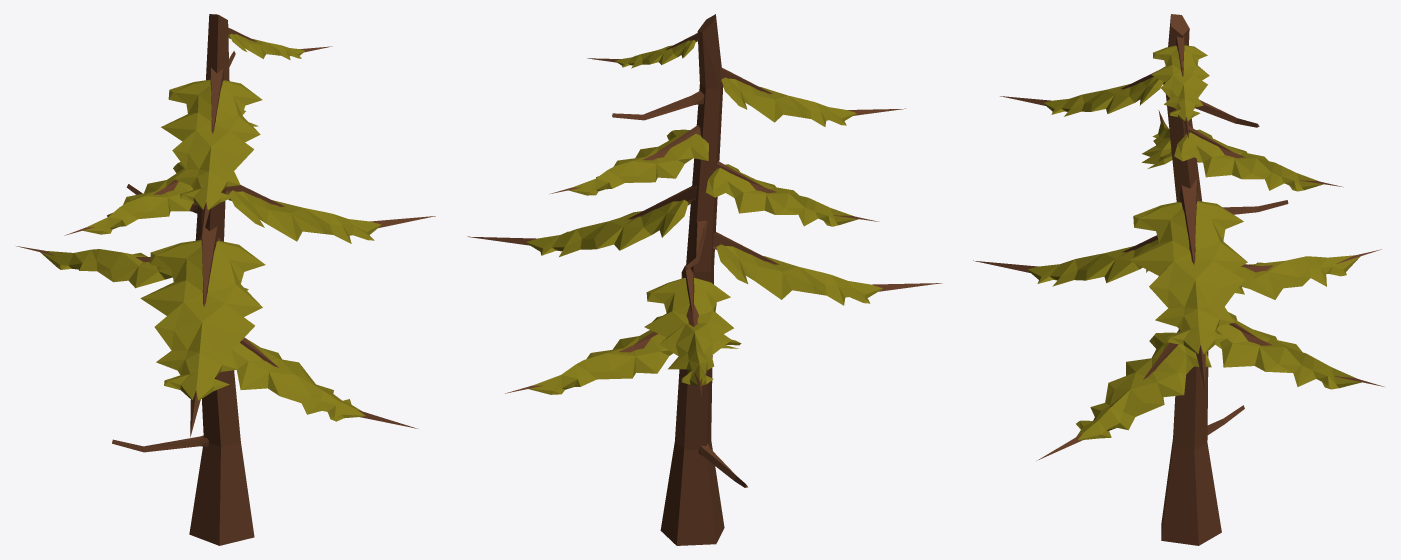
The model's file is FirTree2.fbx.
The picture shows the model from 3 angles, left to right: view 1: azimuth 30°, elevation 25°; view 2: azimuth 150°, elevation 25°; view 3: azimuth 270°, elevation 25°; orthographic projection. The views are drawn at different scales.
Parts seen in each view (by area): view 1: FirTree2; view 2: FirTree2; view 3: FirTree2.
Boxes of the visible parts, x1=… form: FirTree2: x1=16, y1=14, x2=435, y2=545; FirTree2: x1=467, y1=14, x2=942, y2=545; FirTree2: x1=973, y1=14, x2=1384, y2=545.
Size of the model in its own units: 339 by 427 by 314.
